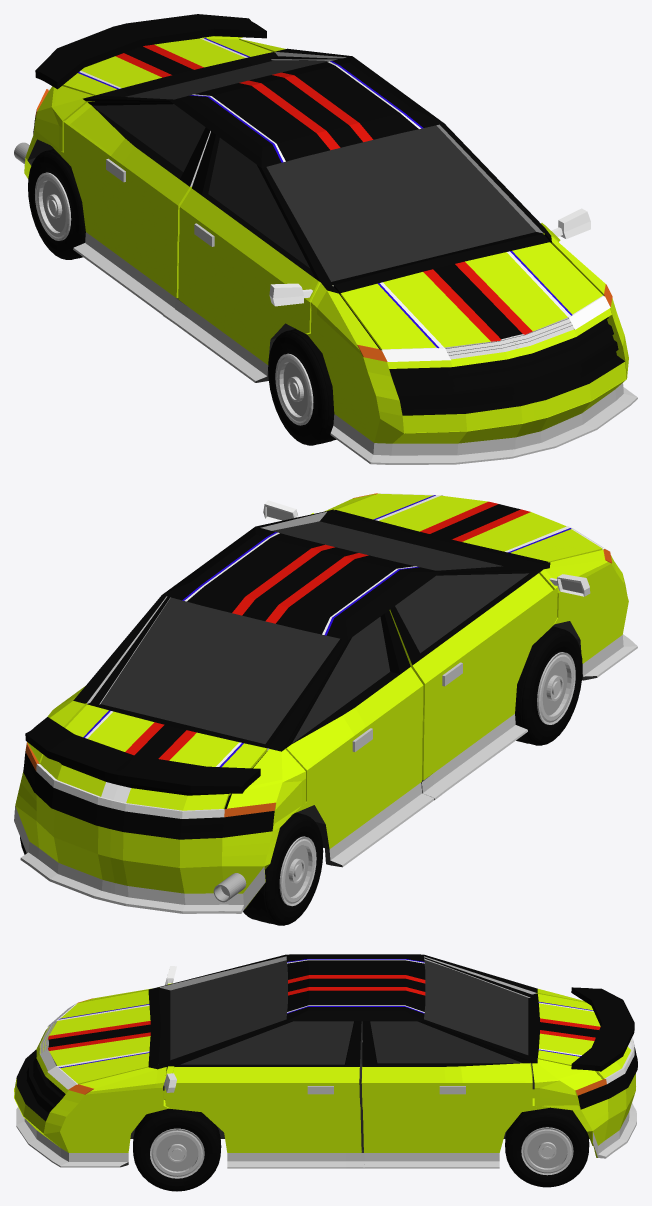
The model's file is CR-CAR-10B.fbx.
3 renders of one model, top to bottom at view 1: azimuth 30°, elevation 25°; view 2: azimuth 150°, elevation 25°; view 3: azimuth 270°, elevation 25°, orthographic. The views are drawn at different scales.
Parts seen in each view (by area): view 1: BODY, WHEEL.001, WHEEL.004; view 2: BODY, WHEEL.001, WHEEL.004, SHACMAN; view 3: BODY, WHEEL.003, WHEEL.002.
Boxes of the visible parts, x1=… form: BODY: x1=24, y1=14, x2=637, y2=464; WHEEL.001: x1=268, y1=328, x2=336, y2=445; WHEEL.004: x1=28, y1=148, x2=85, y2=259; BODY: x1=14, y1=493, x2=637, y2=913; WHEEL.001: x1=515, y1=626, x2=582, y2=745; WHEEL.004: x1=243, y1=812, x2=323, y2=925; SHACMAN: x1=213, y1=873, x2=246, y2=902; BODY: x1=14, y1=954, x2=637, y2=1168; WHEEL.003: x1=133, y1=1108, x2=221, y2=1191; WHEEL.002: x1=505, y1=1107, x2=589, y2=1187.
Size of the model in its own units: 125 by 82.31 by 285.
